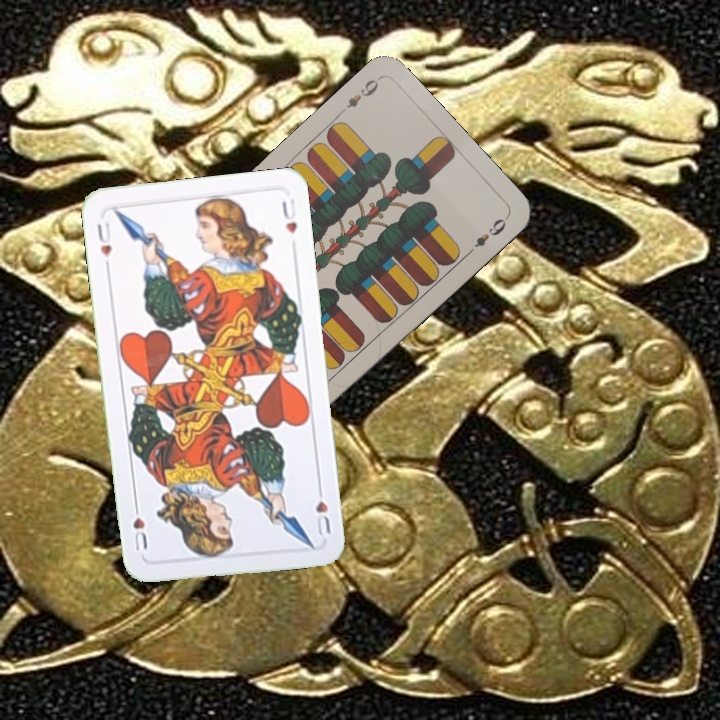E9: (334, 75, 381, 118)
HU: (311, 480, 333, 538), (92, 218, 114, 272)
